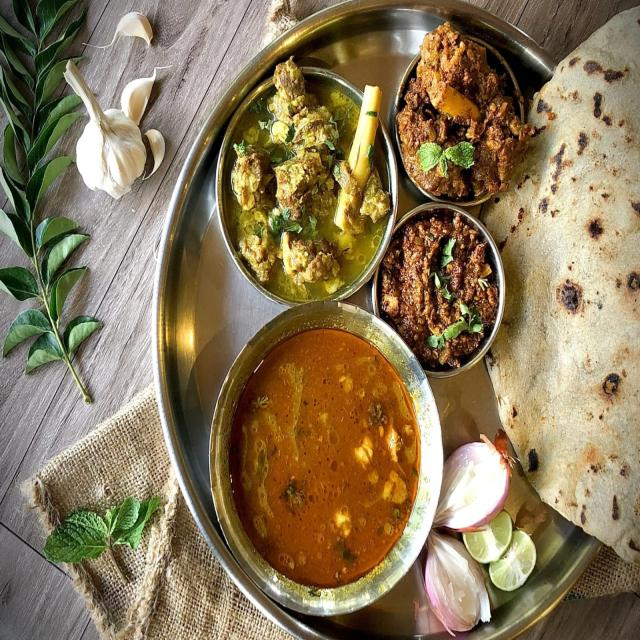non veg meals: (191, 0, 640, 613)
